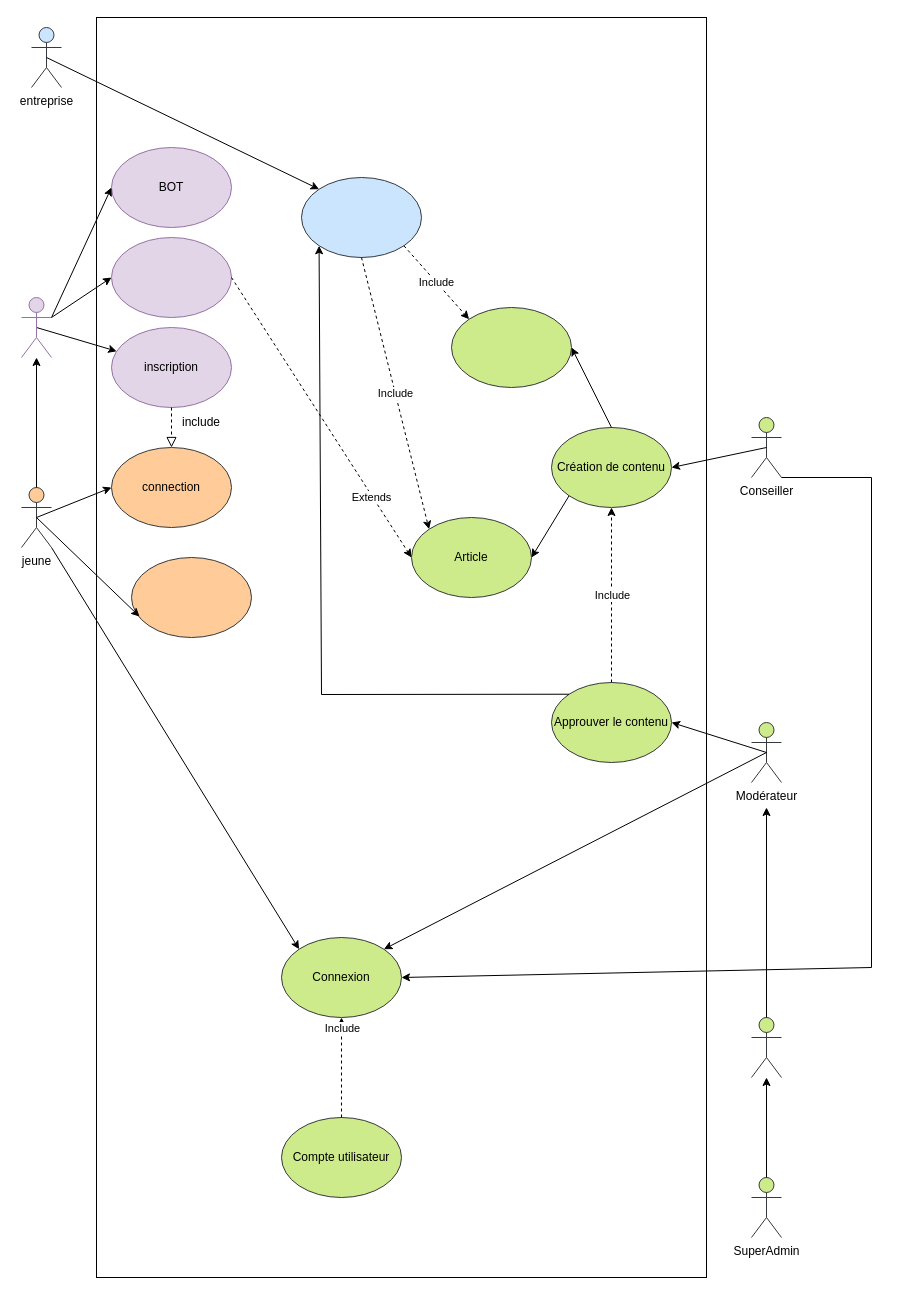
This 897x1295 diagram has some shape labels left out. Here are the shapes that lost their labels. From the top down, the centre of each, then its label:
(x=361, y=217): offre
(x=171, y=277): Rechercher
(x=36, y=327): visiteur
(x=511, y=347): Evènement
(x=191, y=597): Prise de rendez-vous
(x=766, y=1047): Admin
